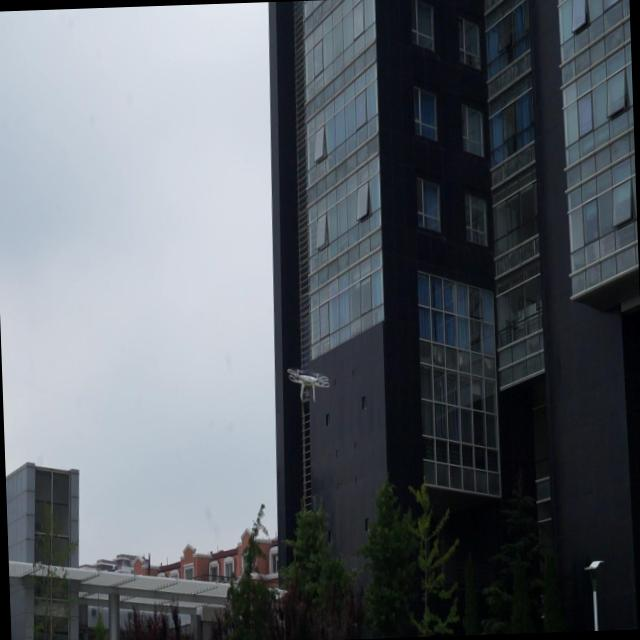drone: (287, 362, 331, 406)
